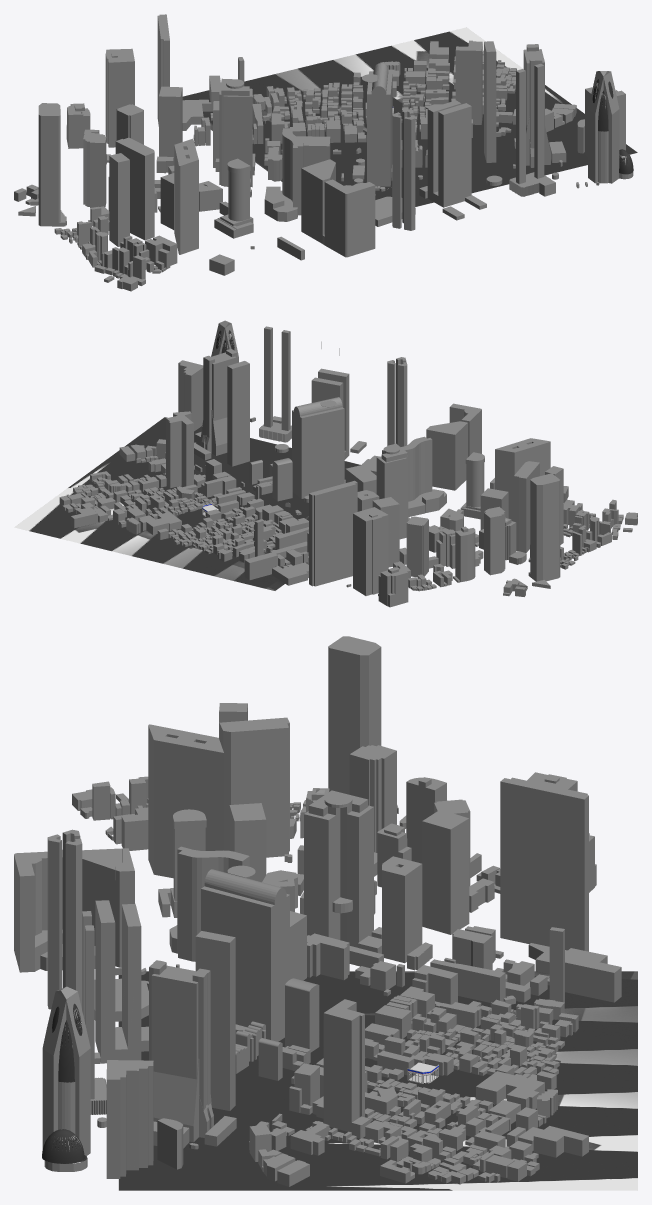
The model's file is map8_hew15.glb.
3 renders of one model, top to bottom at view 1: azimuth 30°, elevation 25°; view 2: azimuth 150°, elevation 25°; view 3: azimuth 270°, elevation 25°, orthographic. The views are drawn at different scales.
Parts seen in each view (by area): view 1: map_27.osm_buildings, Plane; view 2: map_27.osm_buildings, Plane; view 3: map_27.osm_buildings, Plane.
Boxes of the visible parts, x1,y1,x2,y2 form: map_27.osm_buildings: (14, 14, 633, 291); Plane: (182, 27, 637, 206); map_27.osm_buildings: (59, 320, 637, 607); Plane: (14, 417, 360, 590); map_27.osm_buildings: (14, 636, 621, 1186); Plane: (118, 971, 637, 1190).
Bounding box in the file's own units: 203 × 46.74 × 136.
Materials: 6 (1 with a texture image).
